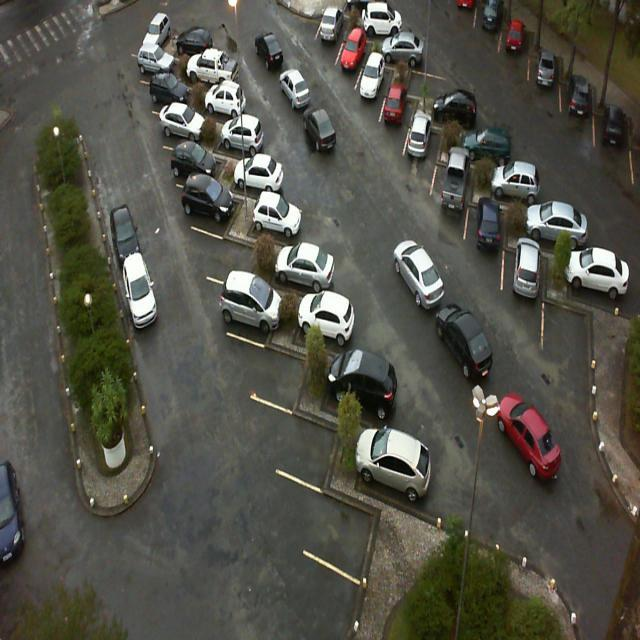space-empty: (304, 468, 388, 582), (271, 390, 348, 479), (245, 326, 312, 406), (542, 303, 591, 374), (204, 224, 262, 281), (410, 61, 458, 104)
space-occupied: (317, 353, 388, 431), (365, 425, 432, 507), (223, 270, 286, 343), (302, 288, 362, 358), (272, 235, 337, 297), (570, 260, 630, 322), (254, 192, 315, 246), (192, 176, 248, 234), (237, 148, 295, 200), (533, 205, 585, 263), (468, 198, 507, 272), (503, 241, 543, 312), (202, 78, 258, 127), (496, 165, 552, 214), (171, 139, 224, 188), (431, 163, 472, 225), (400, 122, 442, 182), (158, 101, 207, 151), (464, 124, 514, 170), (315, 9, 352, 68), (380, 92, 416, 152), (222, 117, 272, 160), (354, 63, 392, 116), (335, 40, 372, 94), (151, 75, 197, 116), (561, 75, 590, 136), (139, 46, 182, 87), (434, 94, 478, 134), (175, 31, 220, 68), (366, 11, 411, 48), (192, 58, 237, 94), (500, 30, 532, 79), (529, 50, 560, 100), (389, 38, 428, 74)
